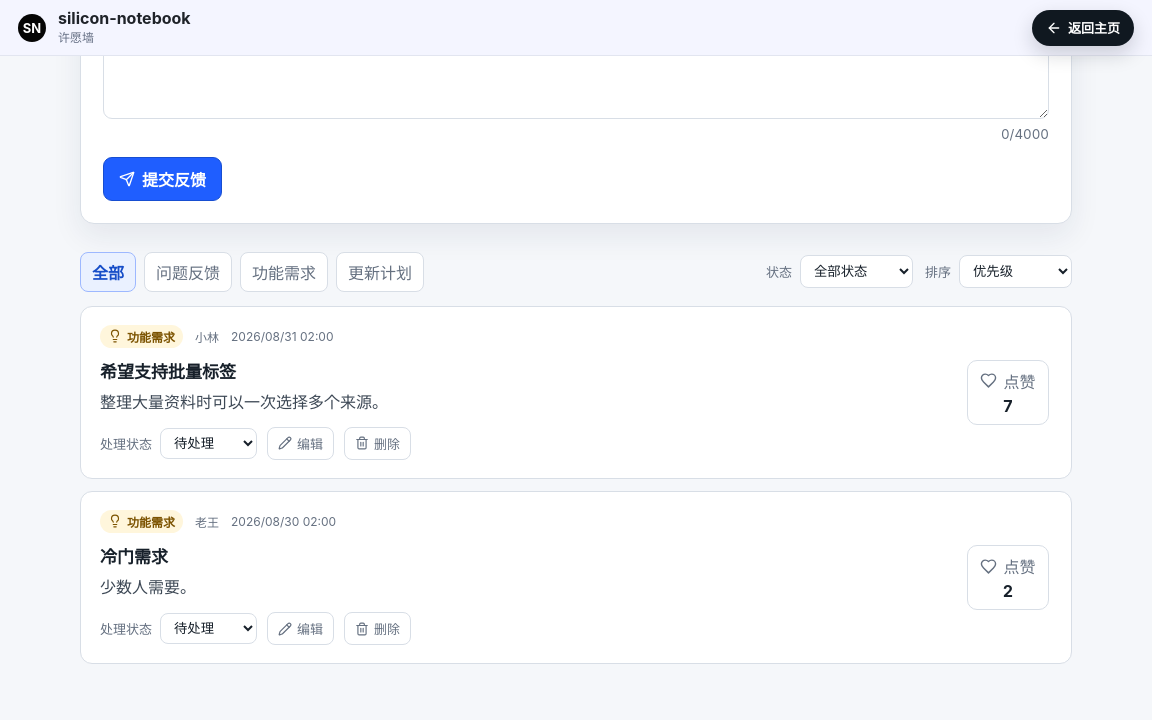
标记状态失败时下拉保持服务端值并给出错误
The width and height of the screenshot is (1152, 720).
(page scrolled)
Expected: the text "希望支持批量标签" is shown, left=100, top=362, right=236, bottom=382
Select "不采纳" in the dropdown labelled "处理状态" below "整理大量资料时可以一次选择多个来源。" at (208, 444), box left=160, top=428, right=257, bottom=459
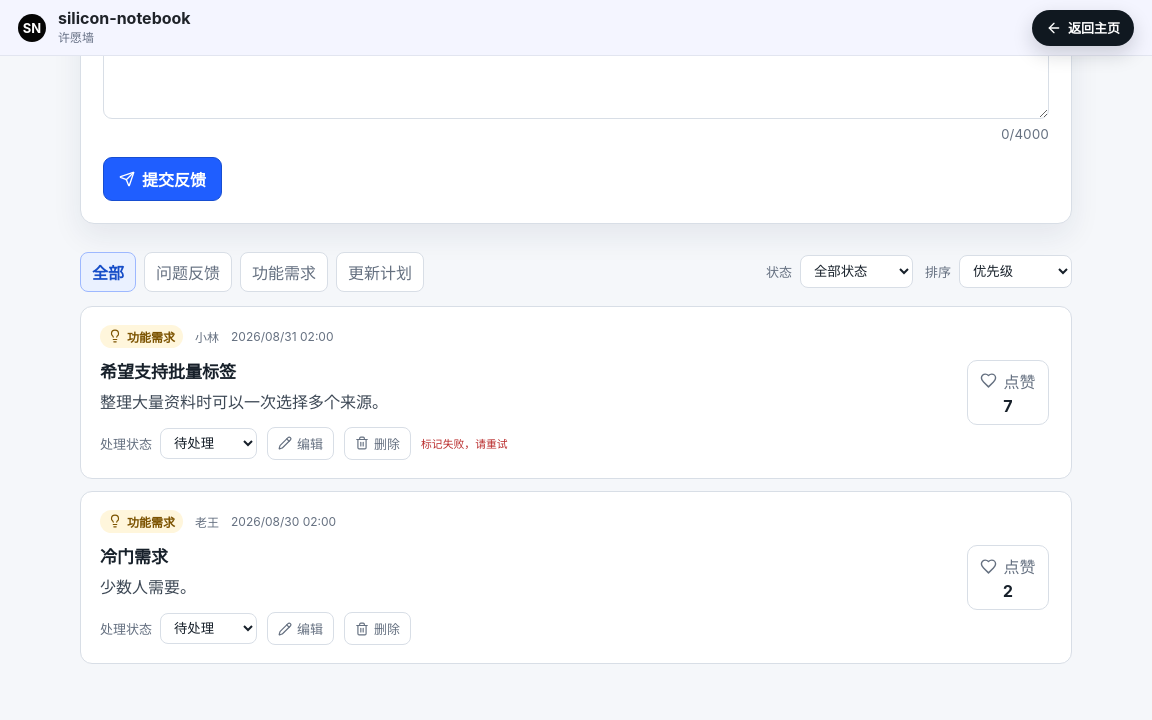
Now the message reads "标记失败，请重试", box left=421, top=438, right=508, bottom=452
